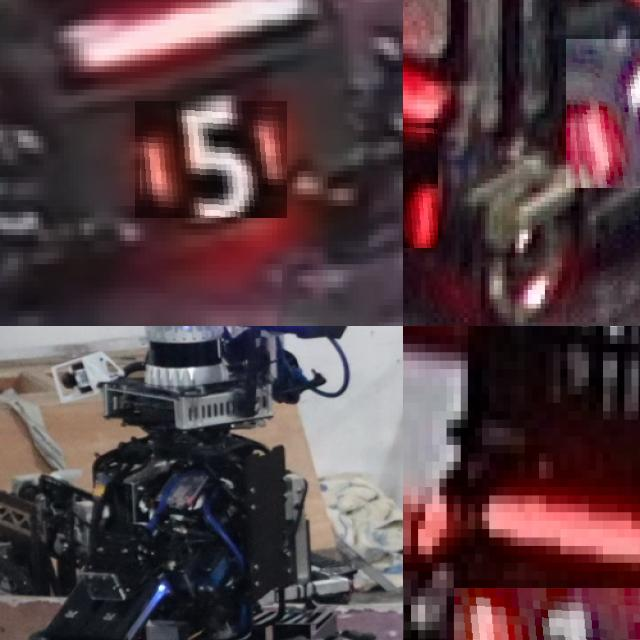R1: (566, 39, 640, 187), (453, 587, 640, 640)
R5: (135, 101, 287, 218)
